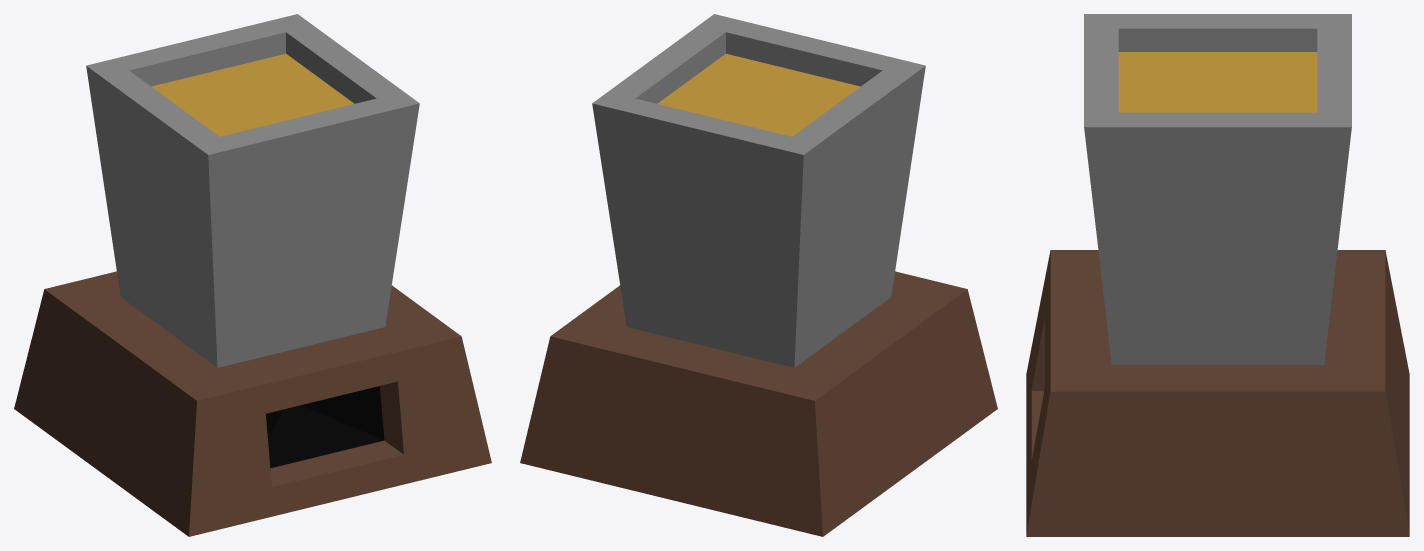
The model's file is Cooking Pot 02.FBX.
3 views of the same model, side by side, from view 1: azimuth 30°, elevation 25°; view 2: azimuth 150°, elevation 25°; view 3: azimuth 270°, elevation 25° (orthographic). The views are drawn at different scales.
Parts seen in each view (by area): view 1: Cooking Pot 02; view 2: Cooking Pot 02; view 3: Cooking Pot 02.
Part boxes in pixels (x1,y1,x2,y2): Cooking Pot 02: (14, 14, 491, 536); Cooking Pot 02: (520, 14, 997, 536); Cooking Pot 02: (1026, 14, 1409, 536).
Size of the model in its own units: 80 by 88.68 by 80.
